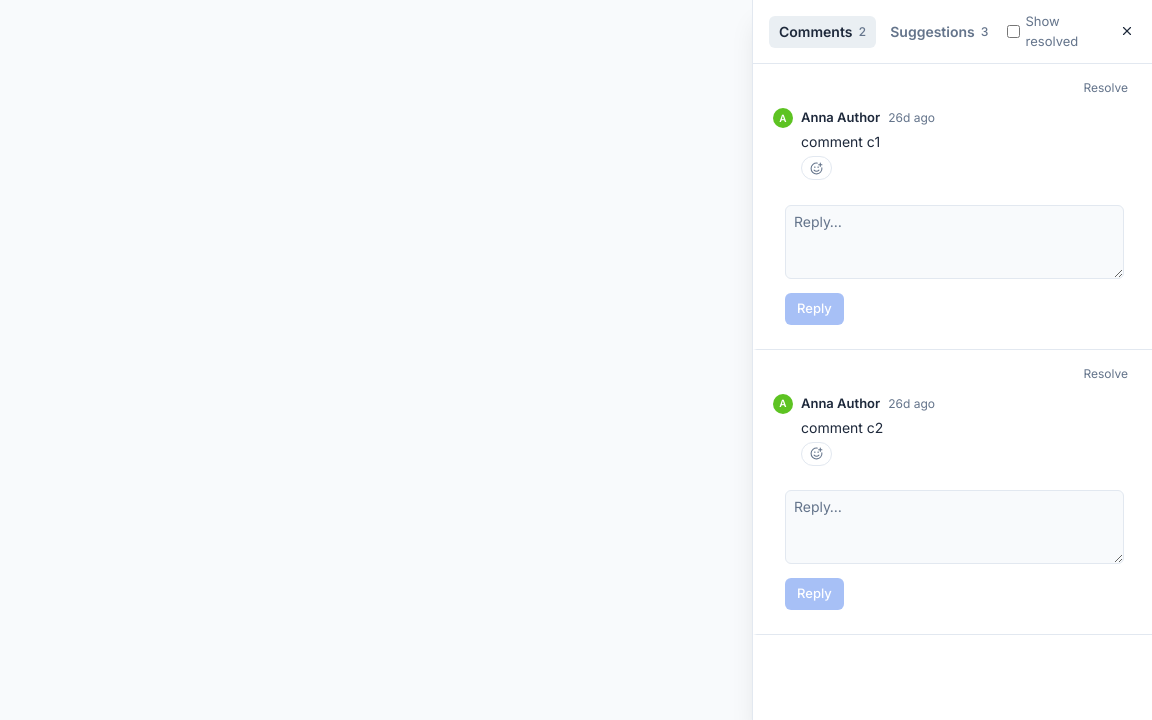
Test: SuggestionsPanel › panel_tabs_show_pending_count
The image size is (1152, 720).
Expected: the button with test id "sidebar-tab-comments" reads "Comments 2", [769, 16, 876, 48]
Expected: the checkbox with test id "comment-show-resolved" is shown, [1006, 25, 1020, 38]
Click the button with test id "sidebar-tab-suggestions".
click(939, 32)  # box [880, 16, 998, 48]
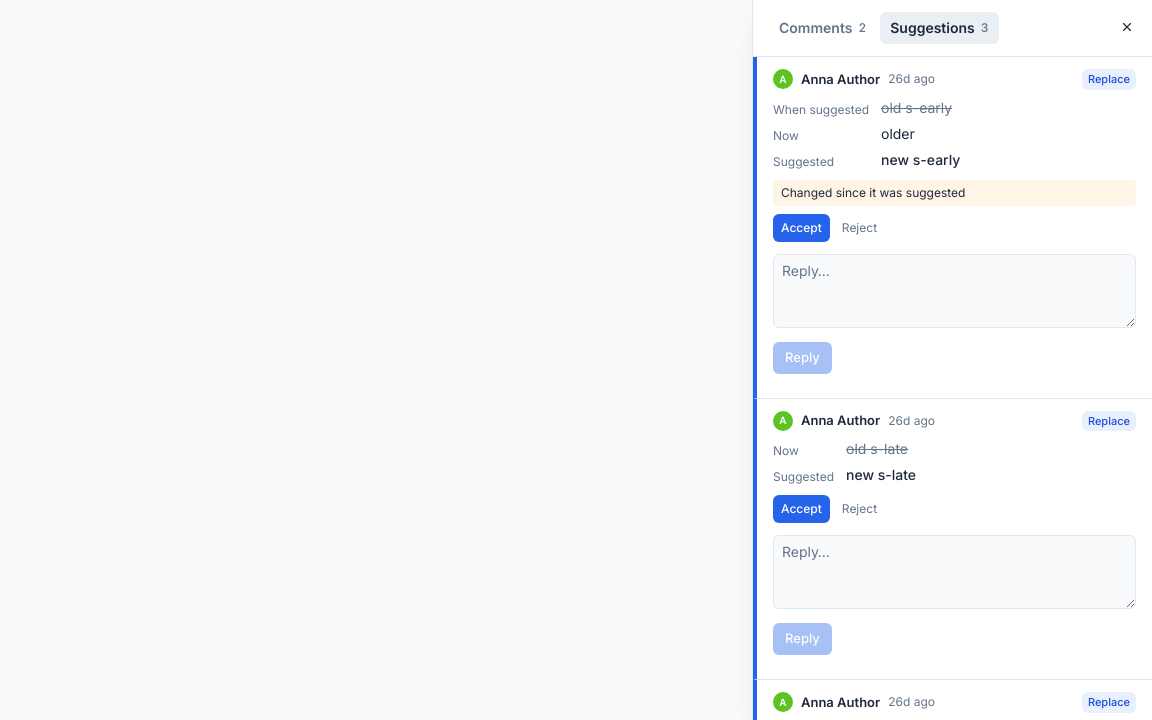
Result: the checkbox with test id "comment-show-resolved" is gone
Result: the element with test id "suggestion-card-s-early" is shown at [753, 57, 1151, 398]
Click the button with test id "sidebar-tab-comments".
click(823, 28)  # box [769, 12, 876, 44]
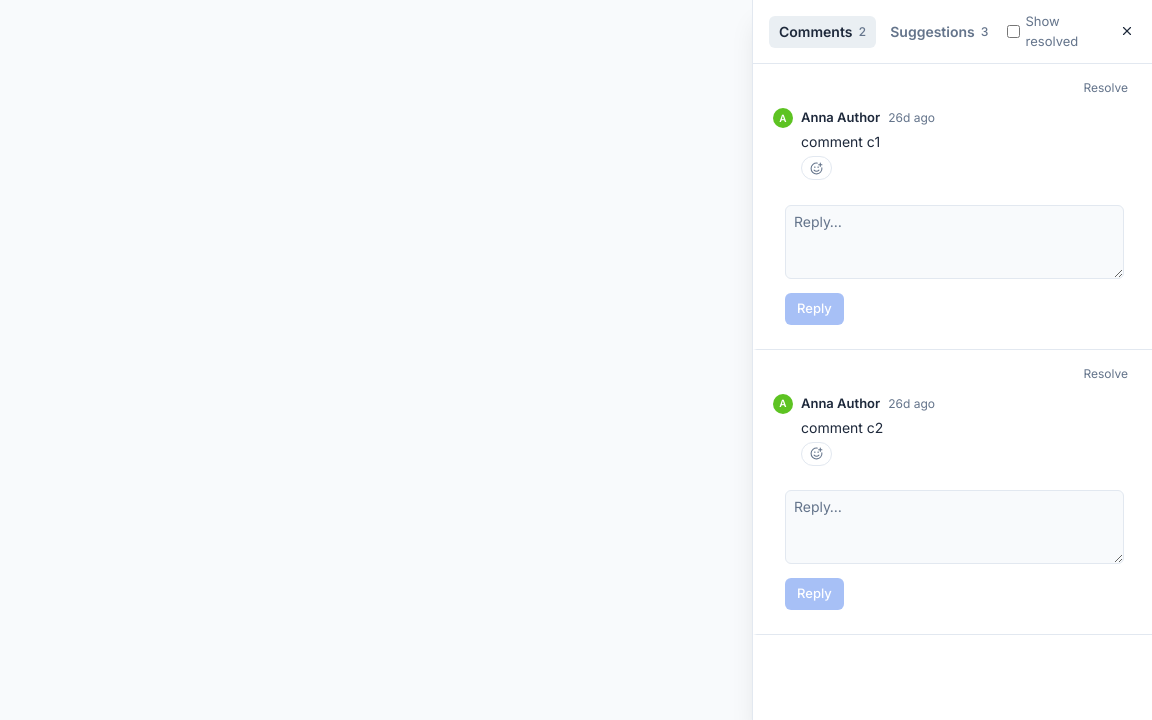
Result: the text "comment c1" is shown at [801, 133, 880, 150]
